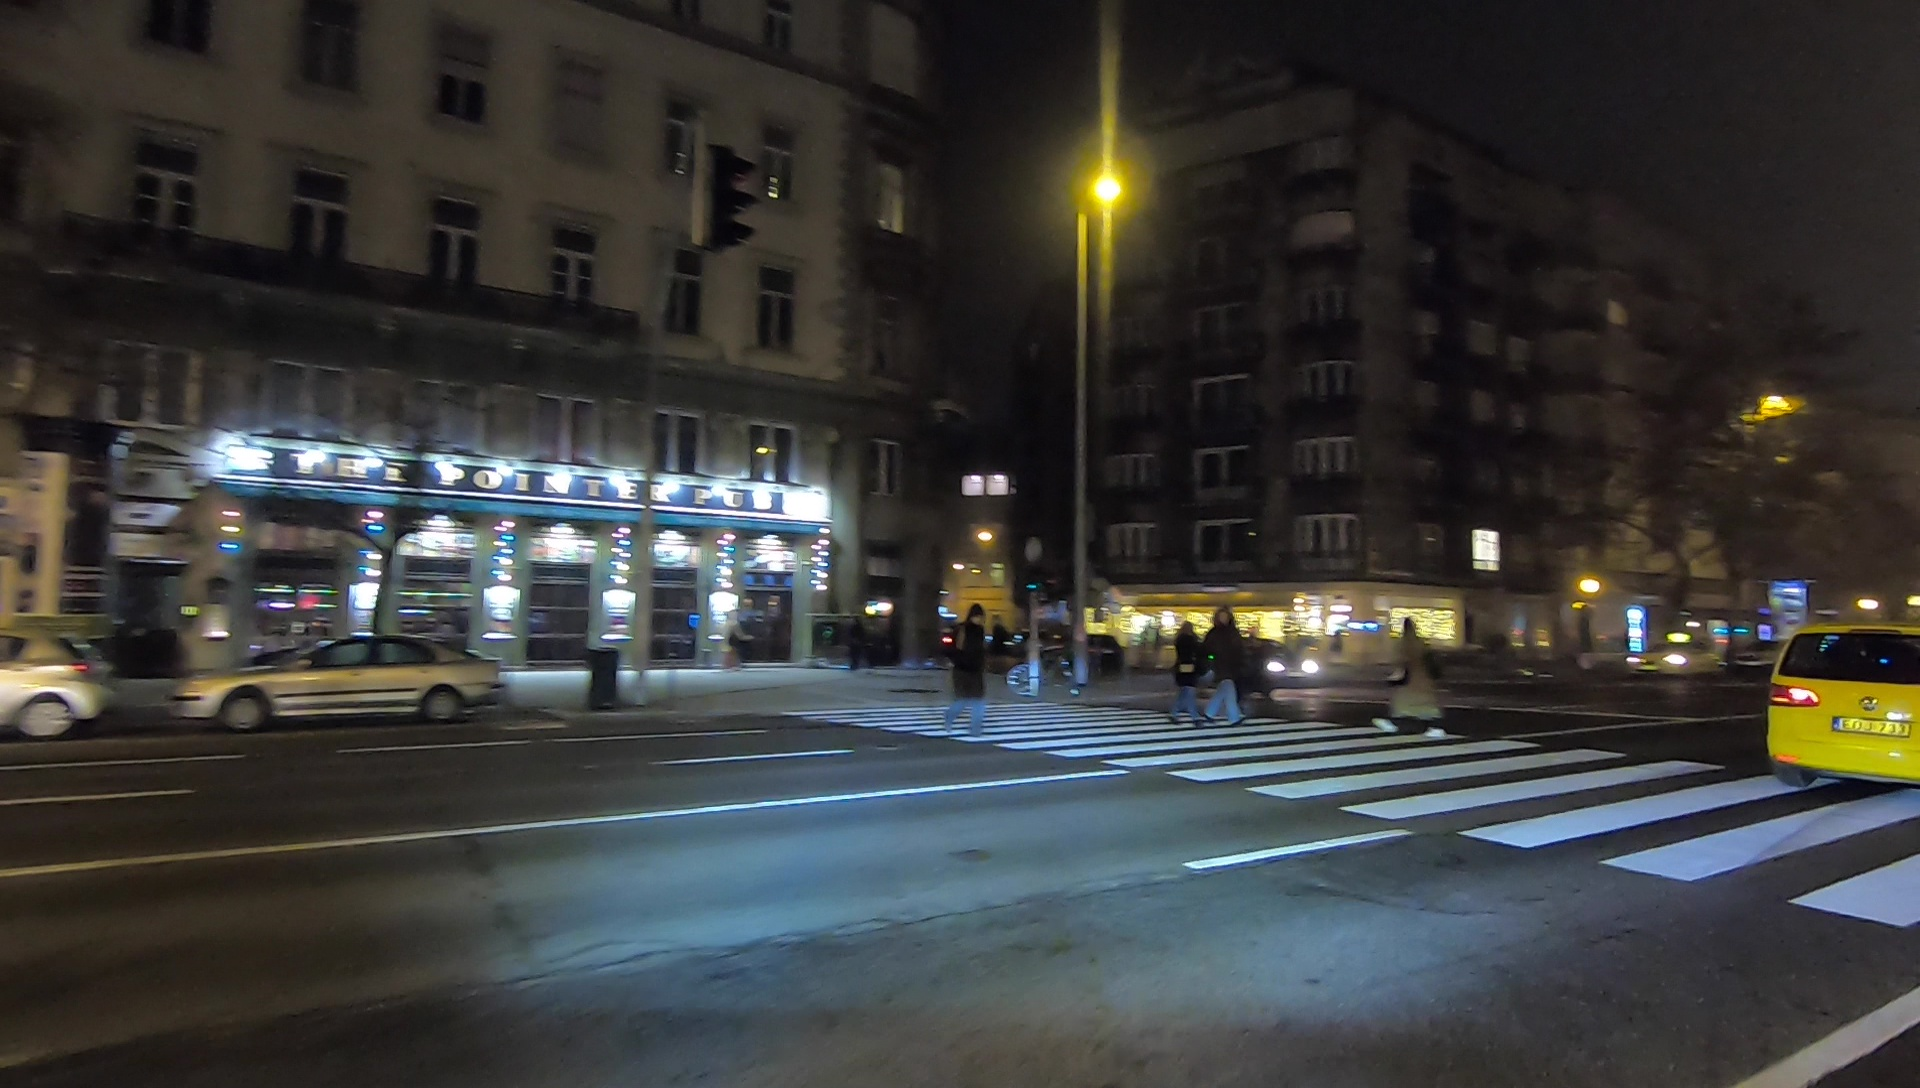person: (1371, 617, 1443, 734), (1204, 602, 1249, 723), (949, 606, 989, 736), (1169, 615, 1208, 728)
